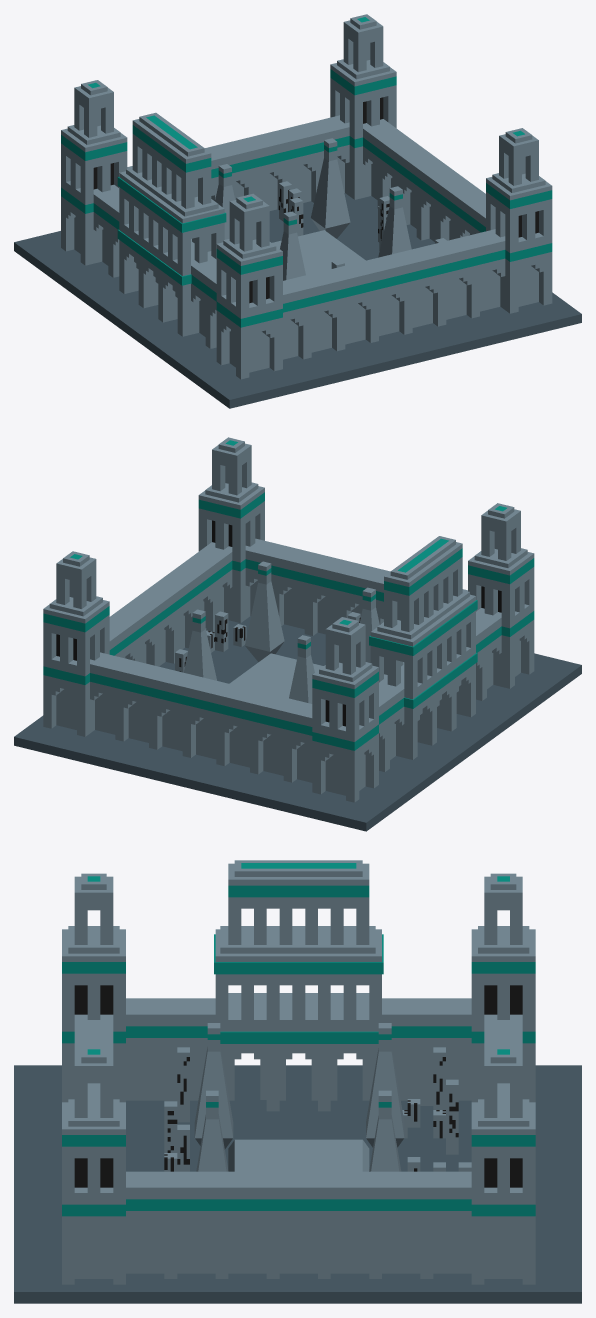
The model's file is Necropolis_walls_V2_1772162482625.glb.
3 renders of one model, top to bottom at view 1: azimuth 30°, elevation 25°; view 2: azimuth 150°, elevation 25°; view 3: azimuth 270°, elevation 25°, orthographic. The views are drawn at different scales.
Visible parts, largest first — view 1: group1759508002, group61099129, group25771445, group893479836, group439534883, group929500499, group107630194, group316226169, group1471486301, group1683549357, group2109566069, group607075928 (+28 smaller); view 2: group1759508002, group439534883, group61099129, group25771445, group893479836, group649434943, group1683549357, group316226169, group107630194, group1471486301, group929500499, group745435237 (+47 smaller); view 3: group1759508002, group439534883, group893479836, group25771445, group316226169, group107630194, group1471486301, group1334222259, group850211741, group2109566069, group745435237, group607075928 (+38 smaller).
Boxes of the visible parts, <box> form: group1759508002: <box>14,193,581,408</box>; group61099129: <box>283,230,505,359</box>; group25771445: <box>216,193,282,379</box>; group893479836: <box>486,128,552,313</box>; group439534883: <box>363,122,485,241</box>; group929500499: <box>311,138,350,238</box>; group107630194: <box>93,188,138,291</box>; group316226169: <box>191,259,216,348</box>; group1471486301: <box>272,230,365,275</box>; group1683549357: <box>378,186,411,257</box>; group2109566069: <box>280,211,305,280</box>; group607075928: <box>117,177,226,232</box>; group1759508002: <box>14,616,581,831</box>; group439534883: <box>109,543,232,666</box>; group61099129: <box>245,539,467,635</box>; group25771445: <box>468,503,534,688</box>; group893479836: <box>198,437,264,622</box>; group649434943: <box>250,692,297,782</box>; group1683549357: <box>245,561,284,661</box>; group316226169: <box>456,608,501,715</box>; group107630194: <box>379,679,404,771</box>; group1471486301: <box>229,653,323,698</box>; group929500499: <box>183,609,216,680</box>; group745435237: <box>289,635,314,703</box>; group1759508002: <box>14,1065,581,1303</box>; group439534883: <box>126,1171,471,1278</box>; group893479836: <box>62,1046,125,1284</box>; group25771445: <box>62,873,125,1102</box>; group316226169: <box>126,998,215,1101</box>; group107630194: <box>382,998,471,1105</box>; group1471486301: <box>228,1139,369,1171</box>; group1334222259: <box>215,993,381,1031</box>; group850211741: <box>220,926,375,953</box>; group2109566069: <box>194,1023,233,1149</box>; group745435237: <box>366,1023,404,1147</box>; group607075928: <box>214,934,383,974</box>.
Bounding box in the file's own units: 3.35 × 1.68 × 3.55.
